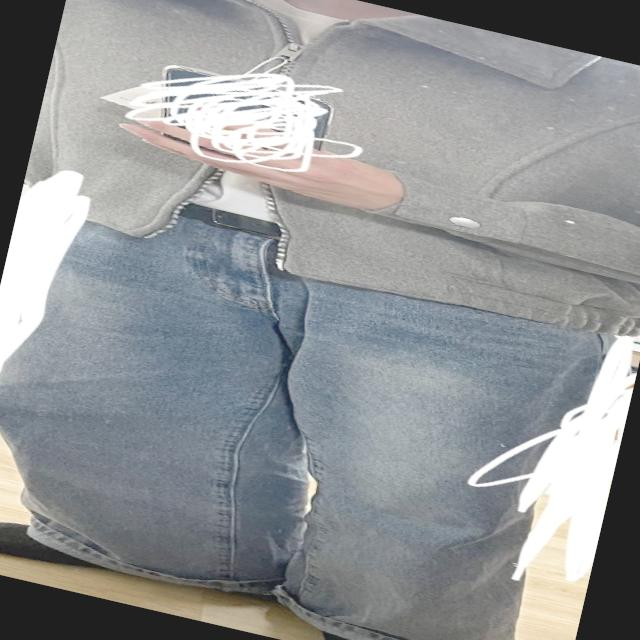denimpants: (0, 175, 638, 640)
jacket: (17, 0, 640, 354)
